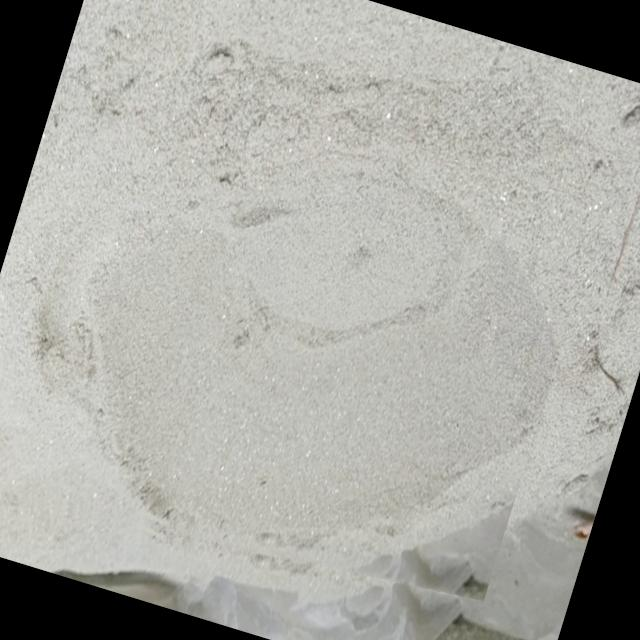C20: (38, 104, 554, 561)
